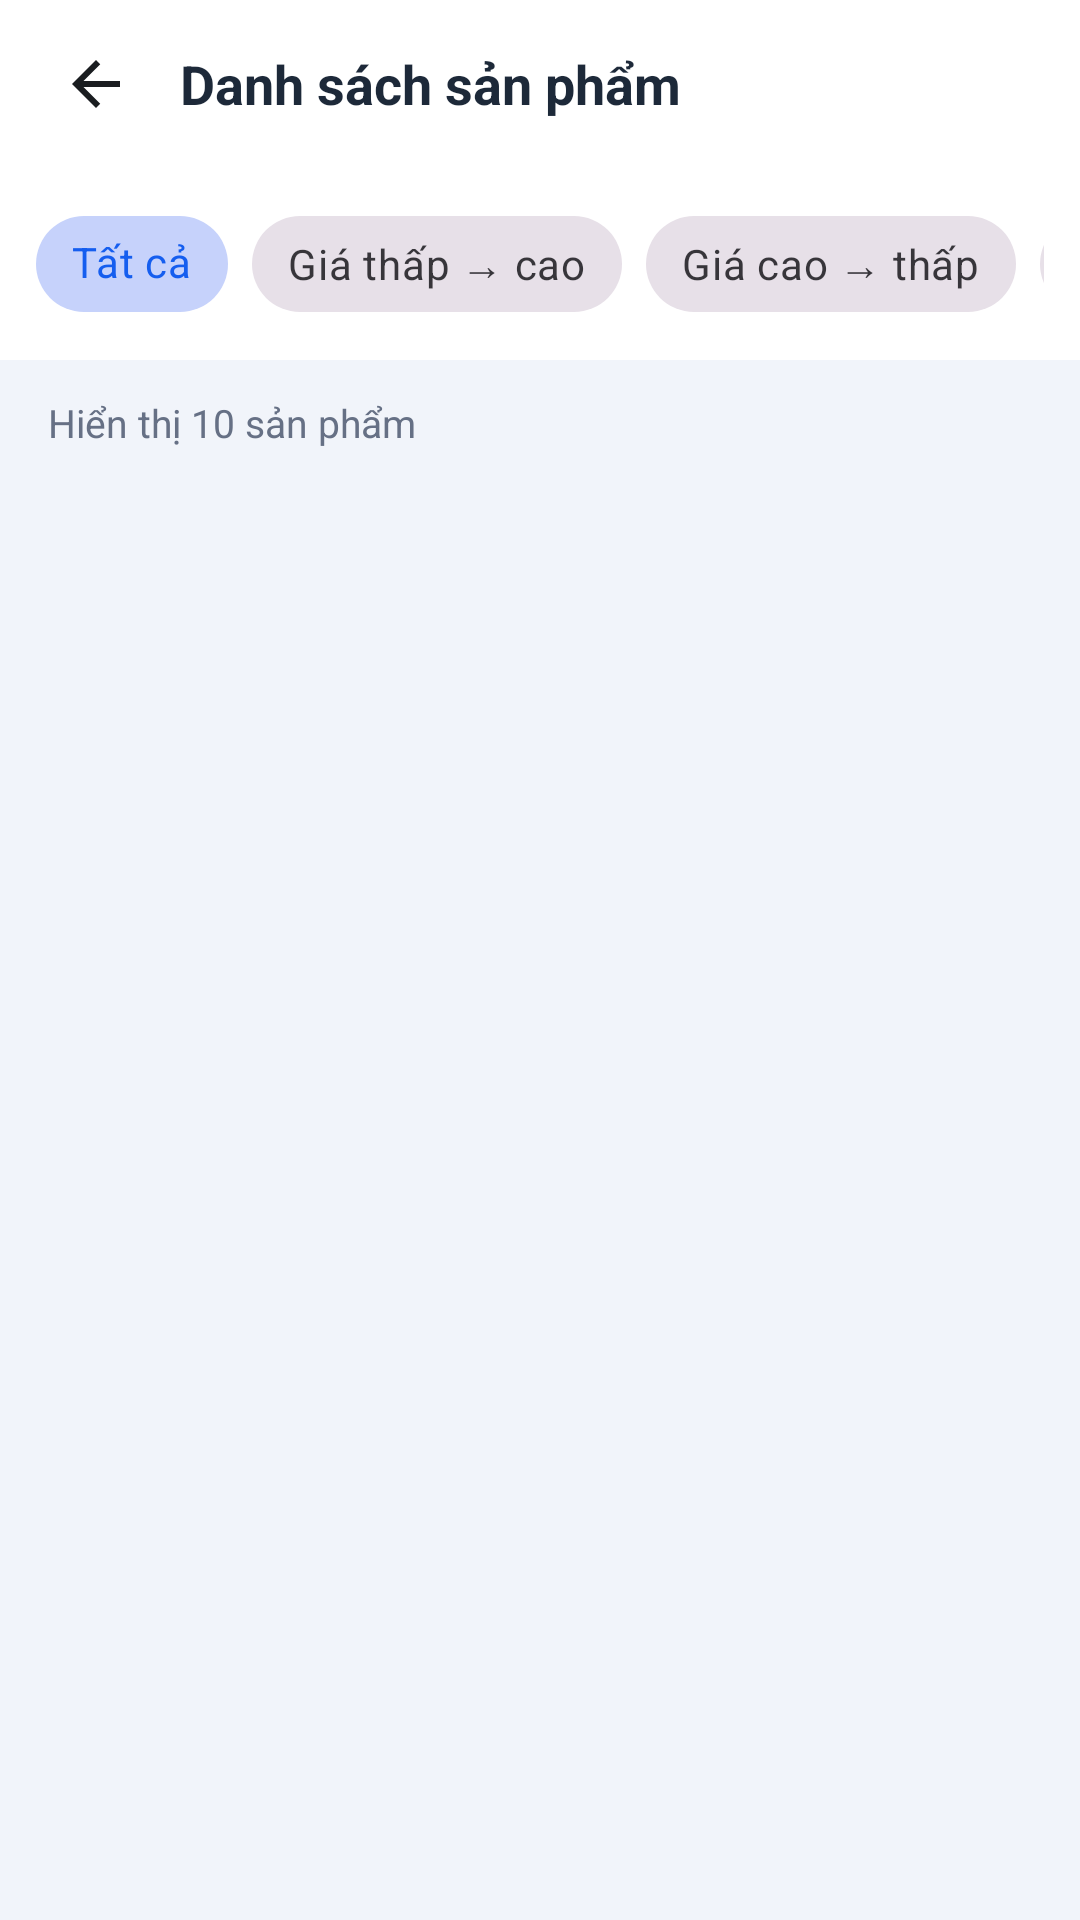

Named icons in this screenshot (1080 × 1920) and their centers, [x,y]:
Back: [96,84]
